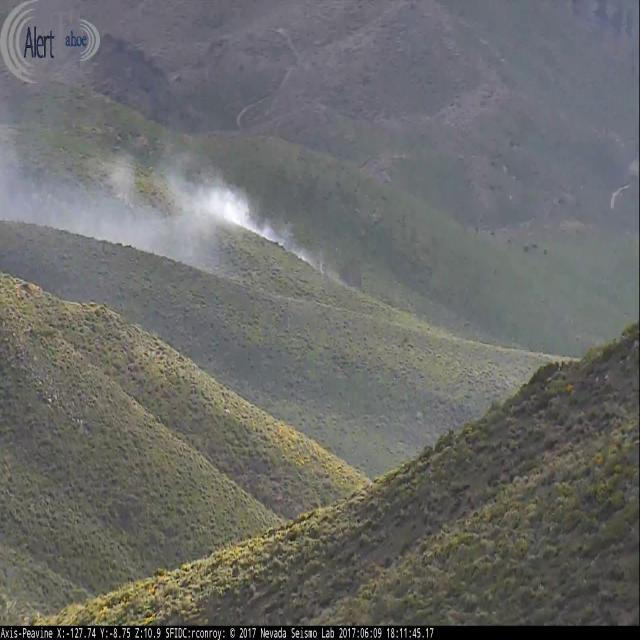smoke: (0, 126, 364, 292)
